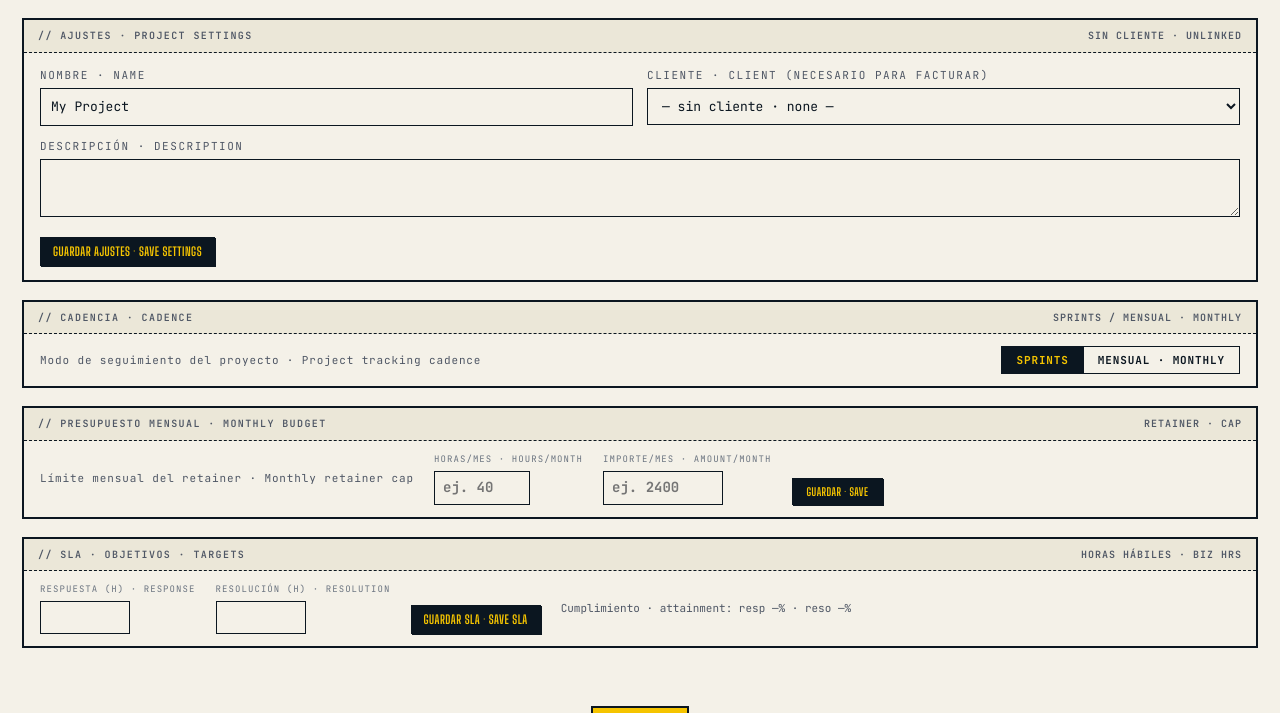
ProjectSummaryPage — coverage gaps › disables the cadence buttons while the update is pending (pending branch)
(page scrolled)
Click the button "Mensual · Monthly" at (1161, 360), box [1084,347,1239,373]
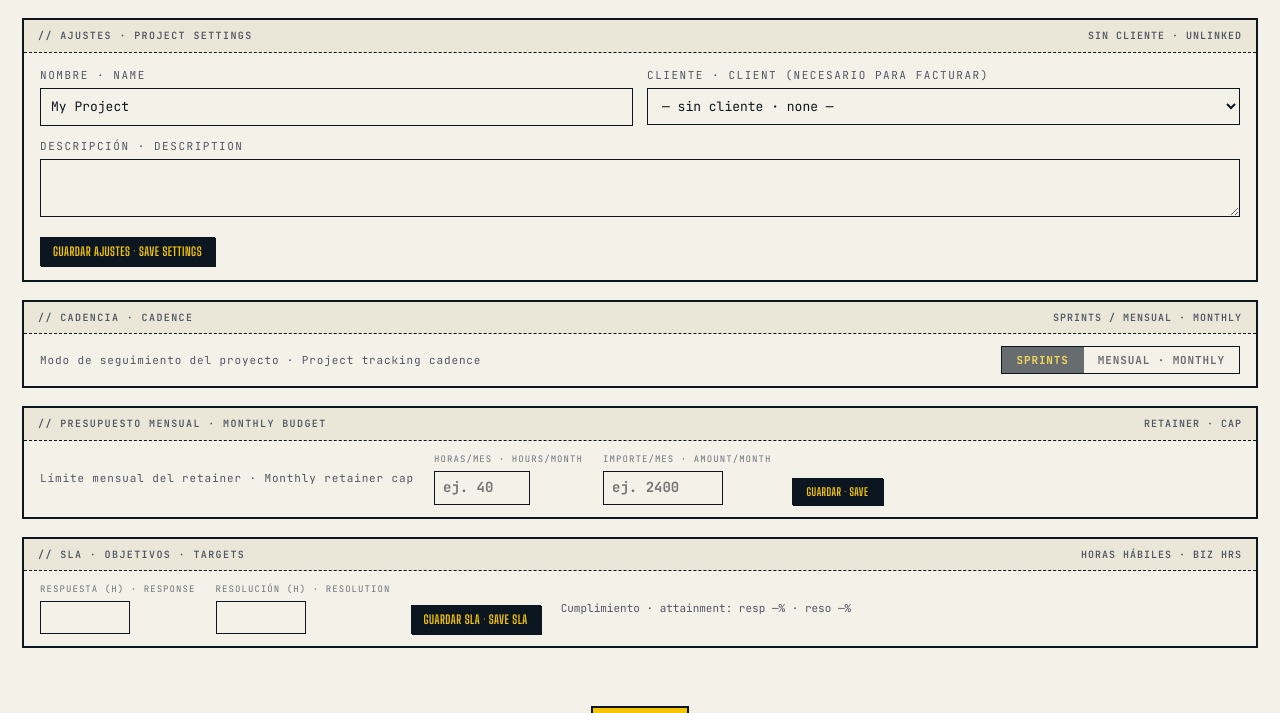
Check: the button "Mensual · Monthly" is disabled, box [1084,347,1239,373]
Check: the button "Sprints" is disabled, box [1002,347,1084,373]
